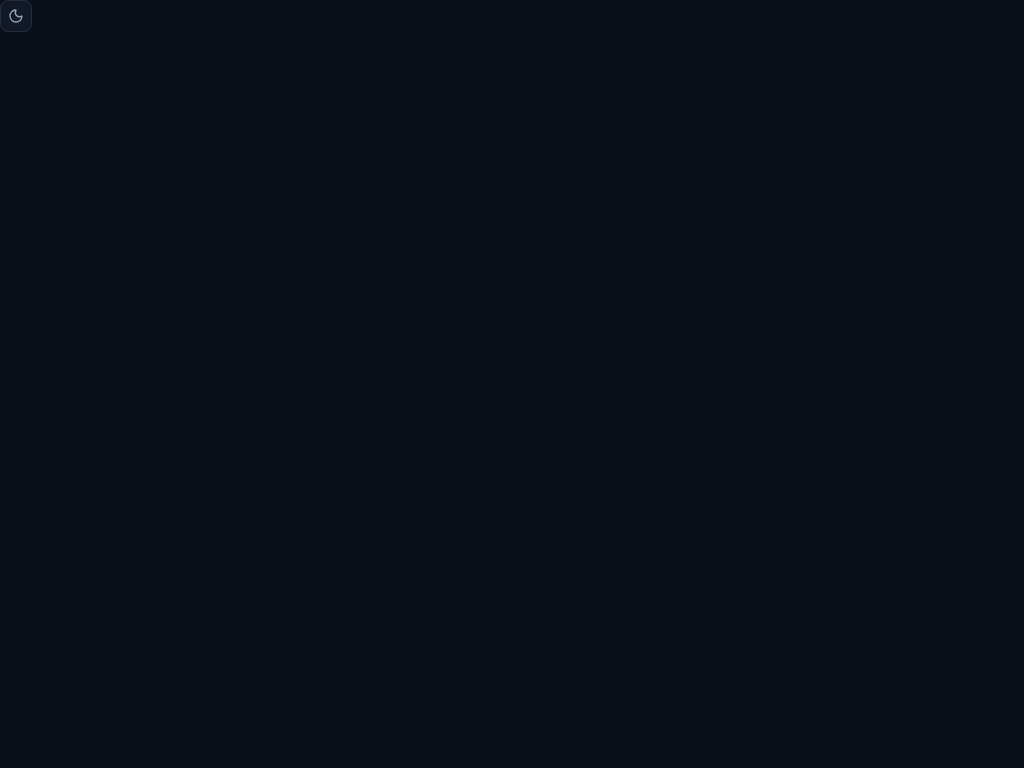
Test: ThemeToggle › shows a monitor face in system mode
The width and height of the screenshot is (1024, 768).
Click the button at (16, 16), box [0, 0, 32, 32]
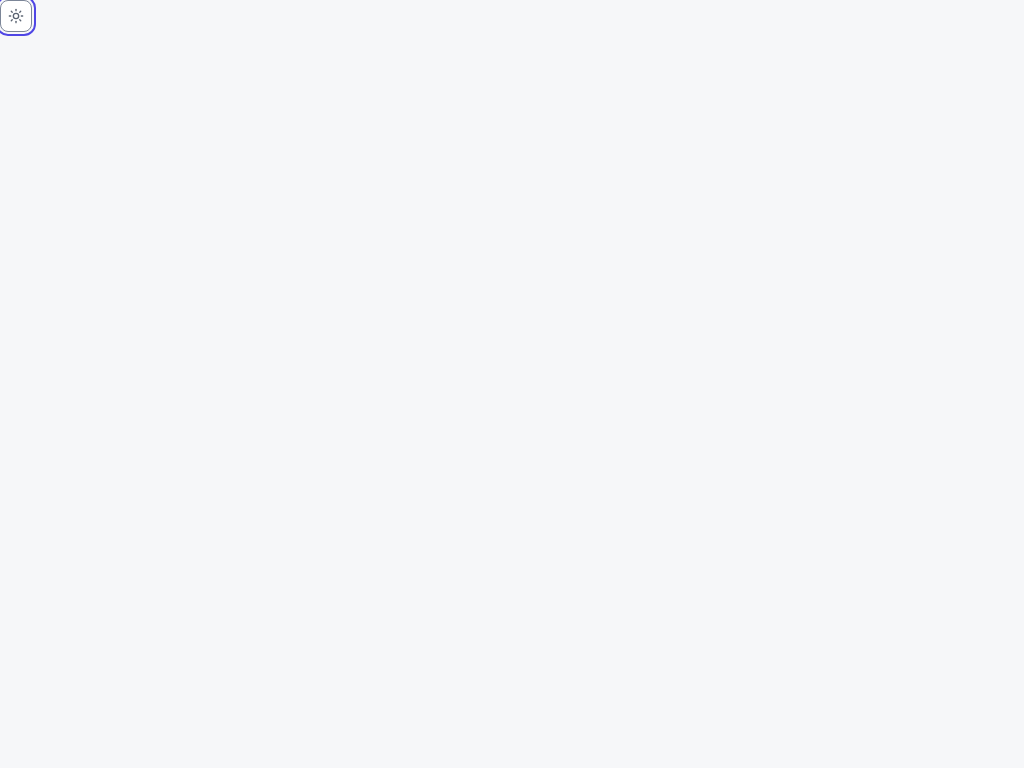
Click the button at (16, 16), box [0, 0, 32, 32]
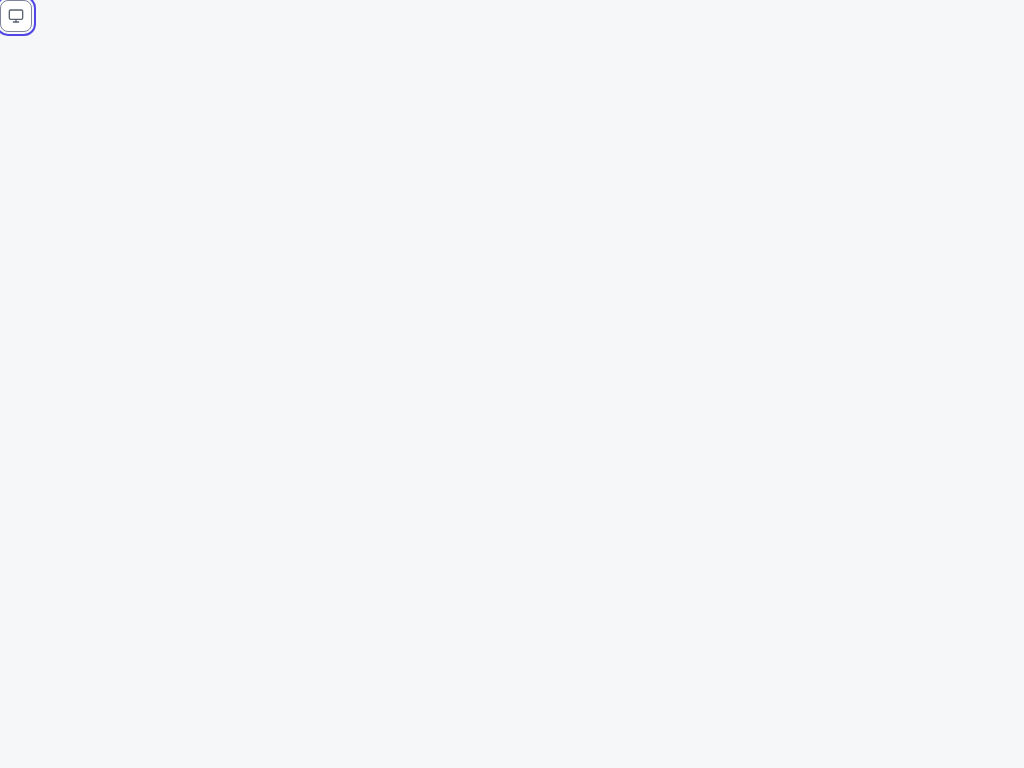
Check: the icon with class "lucide-monitor" is shown, box [8, 8, 24, 24]
Check: the button named "Theme: system (switch to dark)" is shown, box [0, 0, 32, 32]
